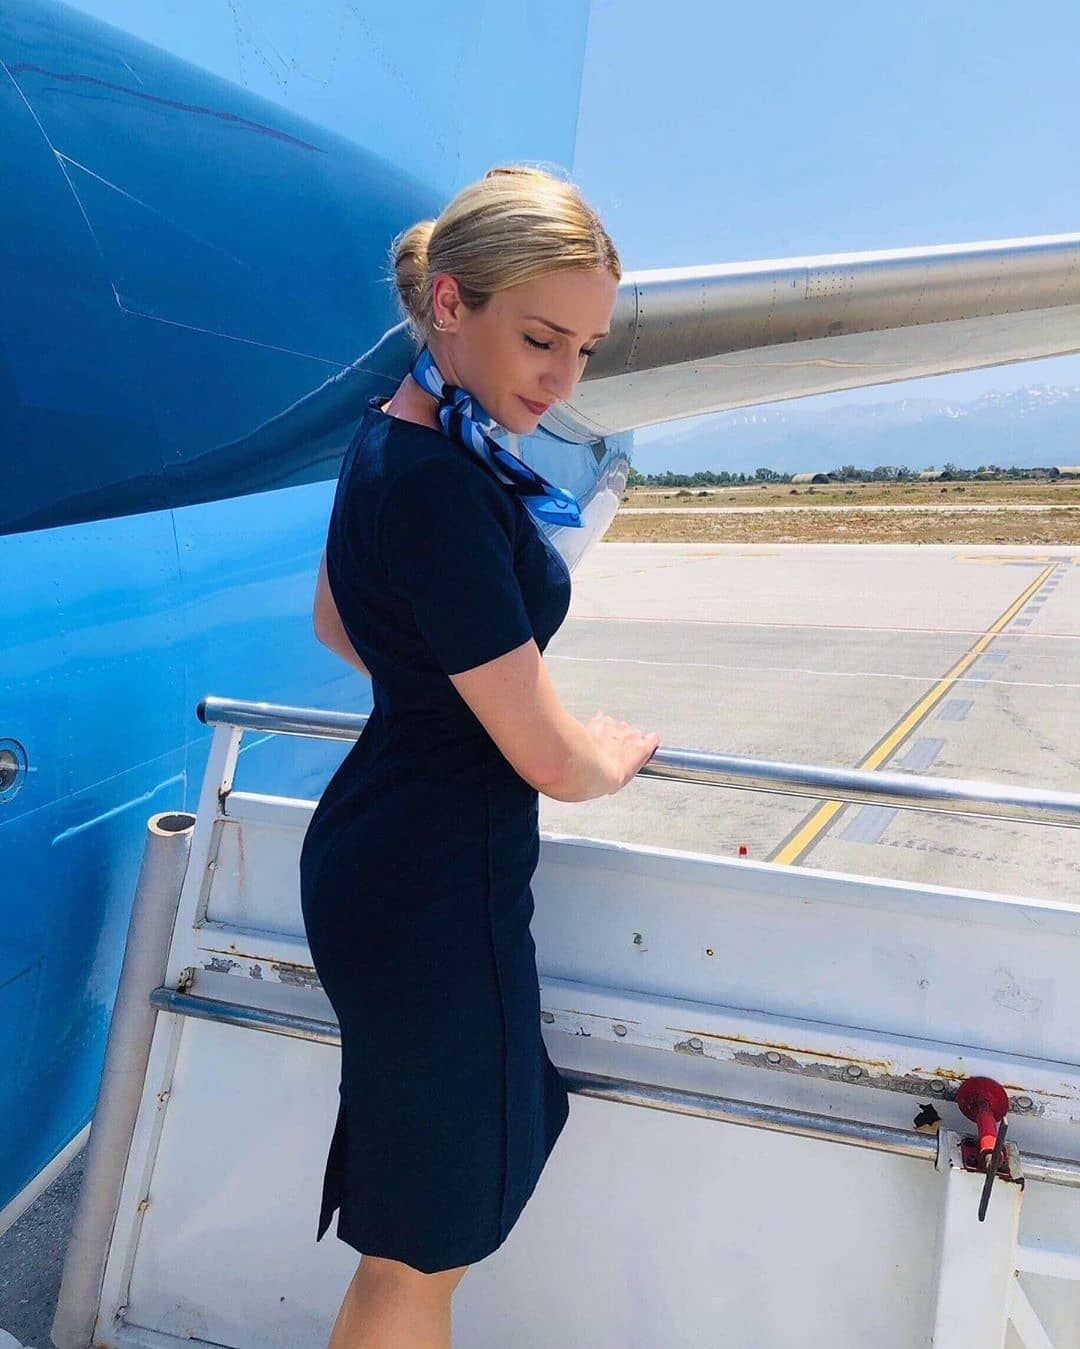without_mask: (468, 218, 591, 421)
